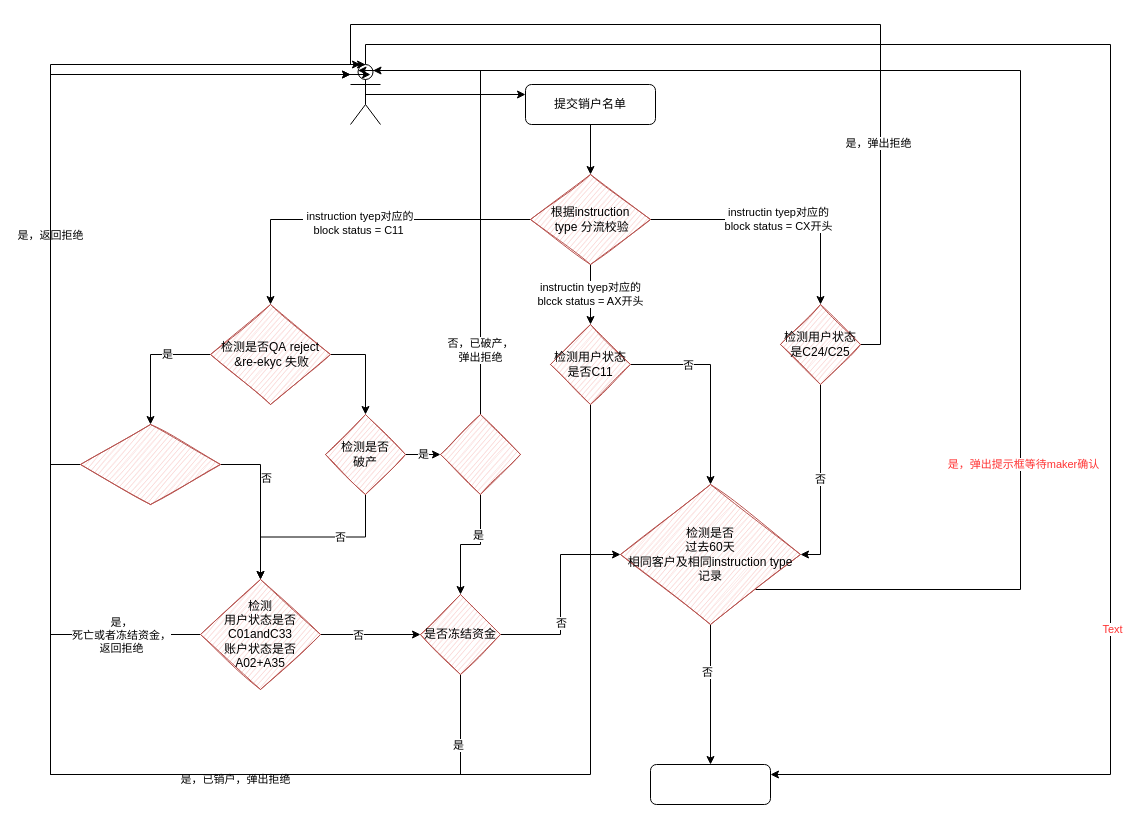
Image size: 1139x822. Some labels were removed from this diagram. Each missing label, with the centre of its shape:
"Maker" goes at point (365, 94).
"插入数据库，初始化工单状态(Team Pool)" goes at point (710, 784).
"检测 AO Appeal System Result 结果" goes at point (150, 464).
"检测用户状态 是否C03" goes at point (480, 454).
